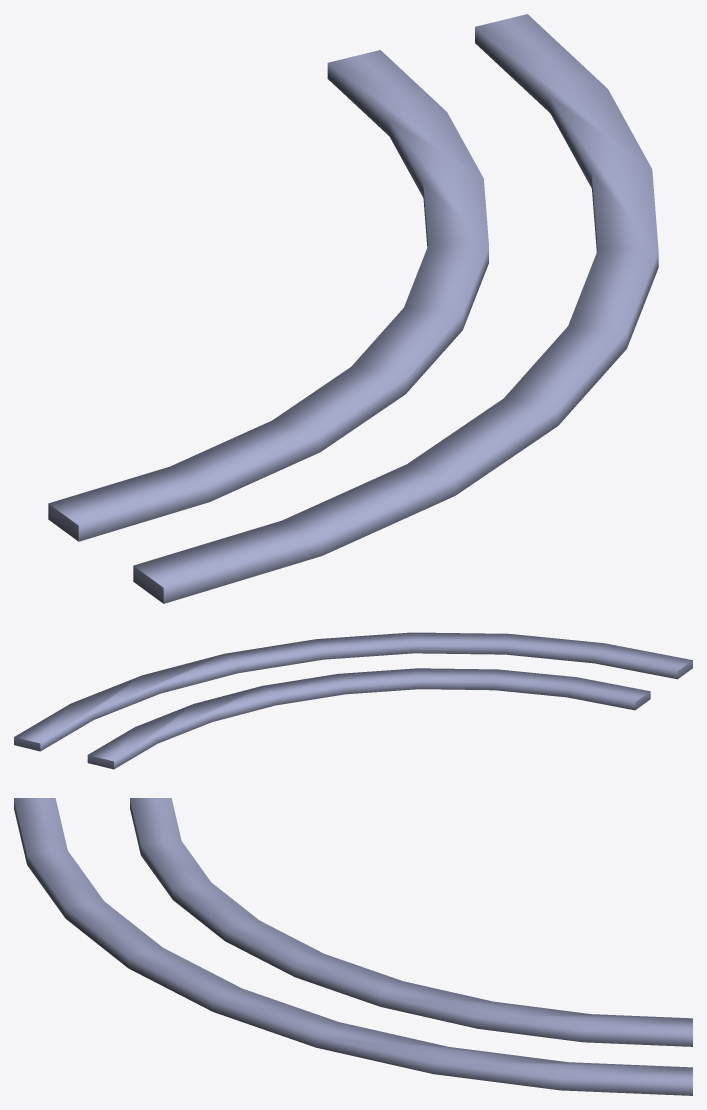
Rendered from trainset-rail-bend.glb.
3 views of the same model, one above another, from view 1: azimuth 30°, elevation 25°; view 2: azimuth 150°, elevation 25°; view 3: azimuth 270°, elevation 25° (orthographic). The views are drawn at different scales.
Visible parts, largest first — view 1: Group; view 2: Group; view 3: Group.
Part boxes in pixels (x1,y1,x2,y2): Group: [48, 14, 658, 603]; Group: [14, 632, 692, 769]; Group: [14, 798, 692, 1095].
Size of the model in its own units: 0.8485 by 0.0151 by 0.8485.
